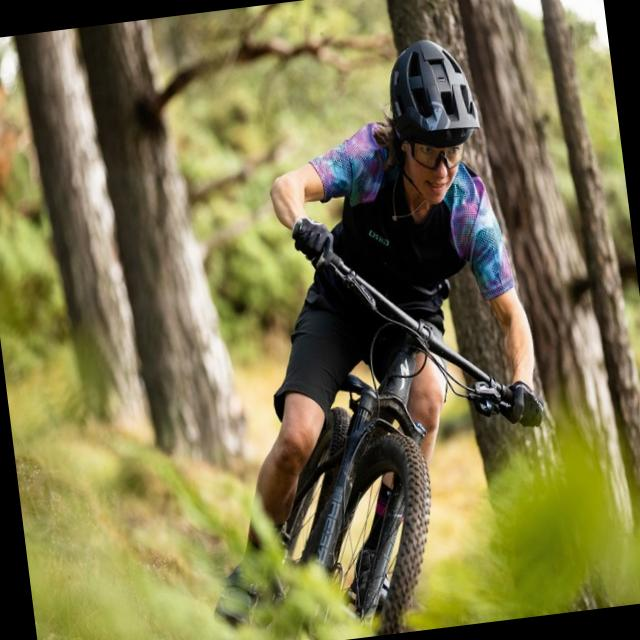helmet: (374, 29, 487, 152)
